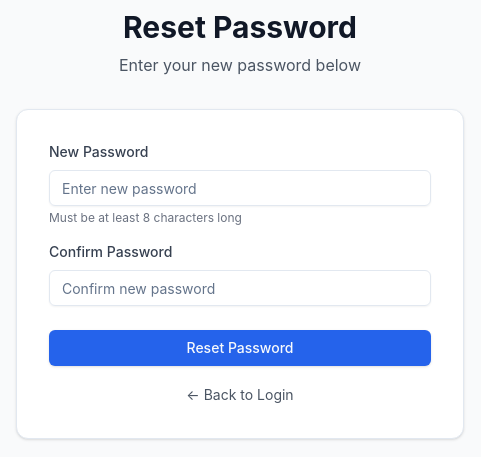
Test: ResetPasswordPage - Form Submission › should show loading state when submitting
Type "newpassword123" into the password field with test id "password-input" at (240, 188), box [49,170,431,206]
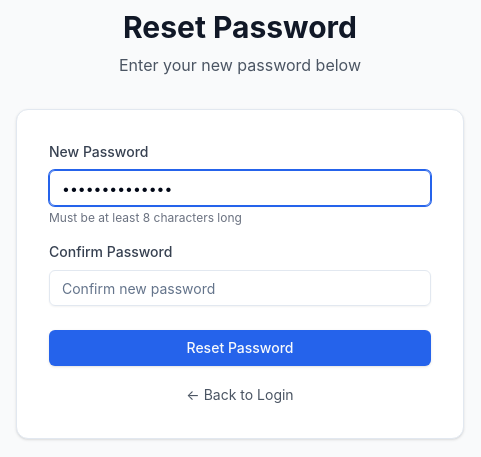
Type "newpassword123" into the password field with test id "confirm-password-input" at (240, 288), box [49,270,431,306]
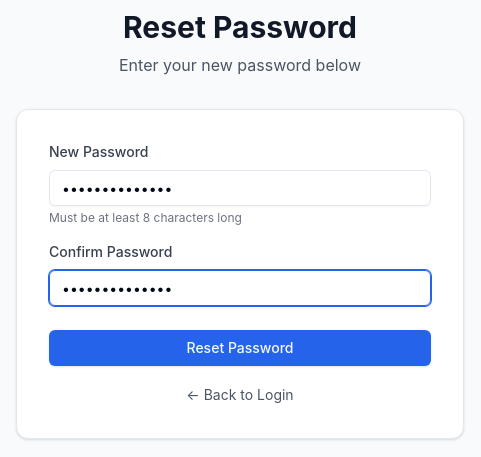
Click the button with test id "submit-button" at (240, 348), box [49,330,431,366]
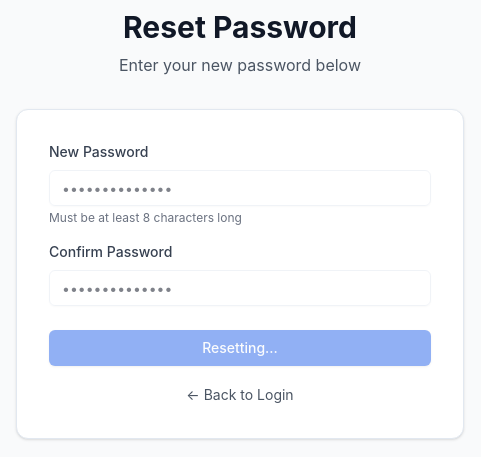
Expected: the button with test id "submit-button" is disabled, [49,330,431,366]
